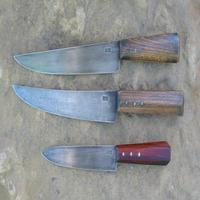knife: (8, 75, 192, 132), (5, 29, 184, 74), (27, 136, 185, 179)
